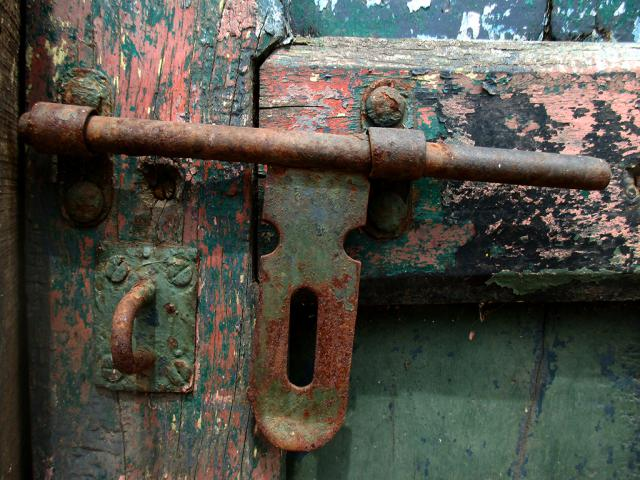Door-handle: (13, 65, 612, 451)
